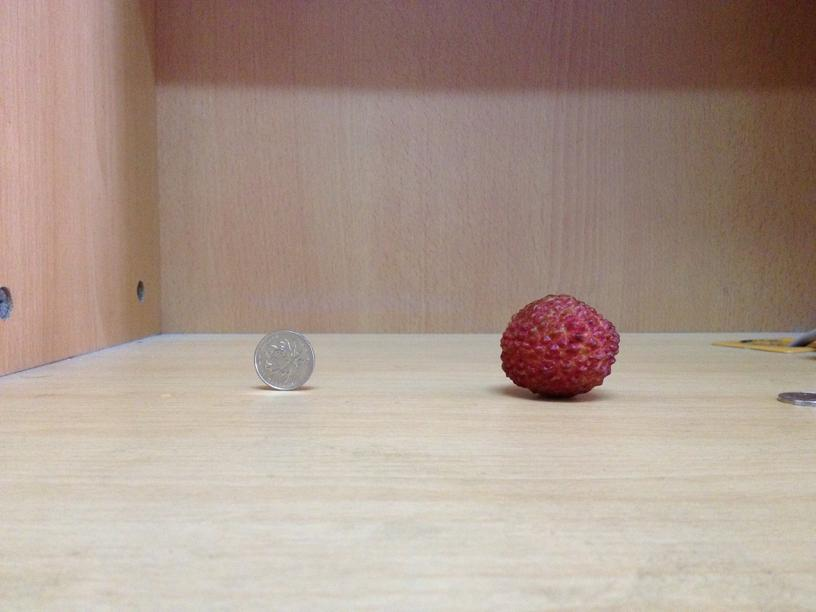coin: (249, 328, 312, 391)
litchi: (501, 294, 618, 398)
